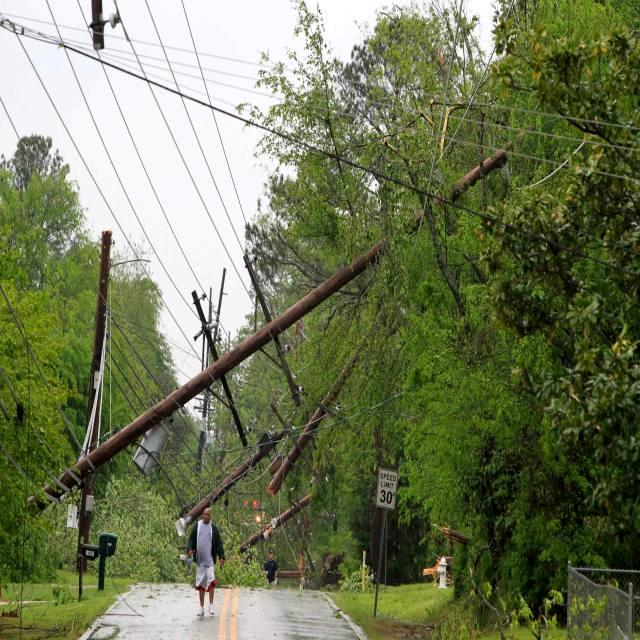Broken Pole: (1, 108, 552, 540), (261, 298, 393, 504), (161, 374, 315, 544), (230, 478, 316, 568), (266, 563, 315, 585)
